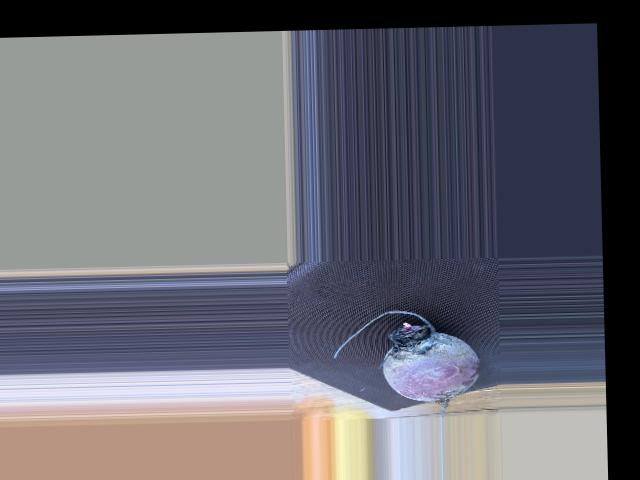beet: (332, 308, 481, 419)
